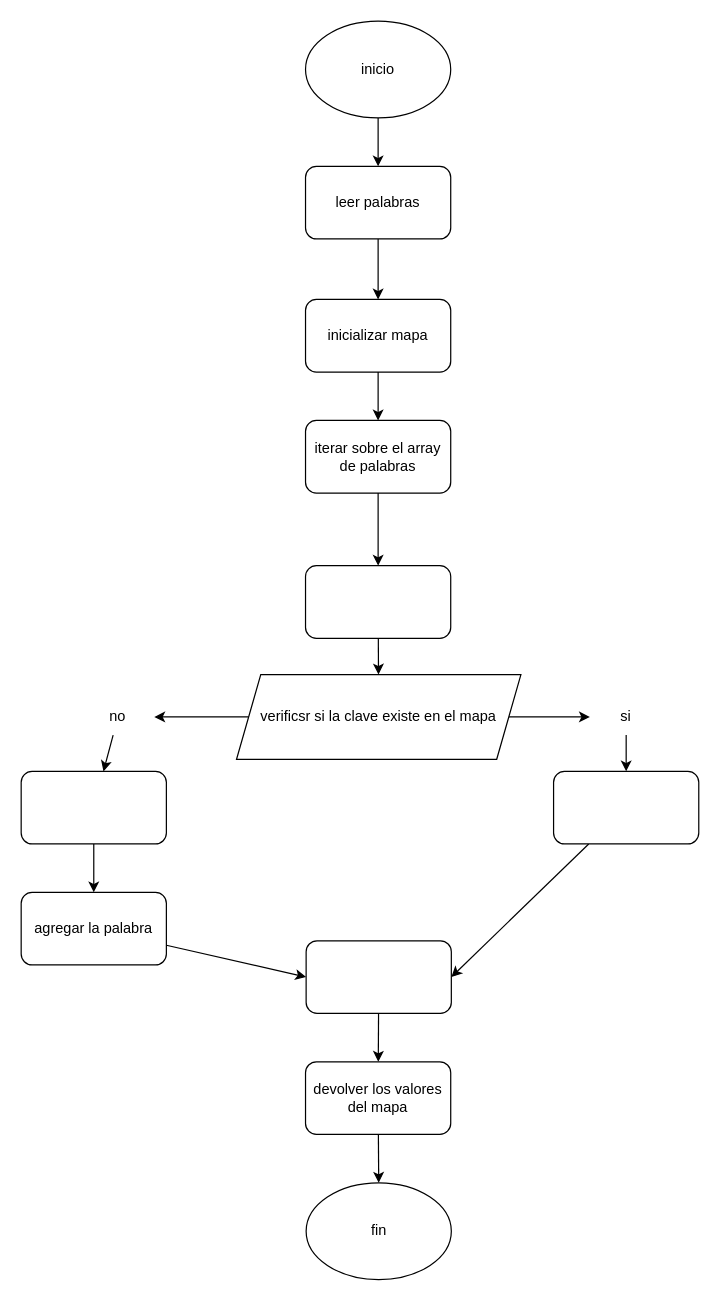
The diagram is 720 pixels wide and 1301 high, and some of its shapes have lost their labels. The shapes that lost their labels are listed below. From the top down, each one's box as (x1, y1, x2, y2) in pixels, then its label:
(304, 564, 451, 638): ordenar la palabra
(20, 770, 166, 844): iniciar la clave en el mapa
(552, 770, 699, 844): agregar la palabra al array
(305, 940, 451, 1013): fin del bucle
